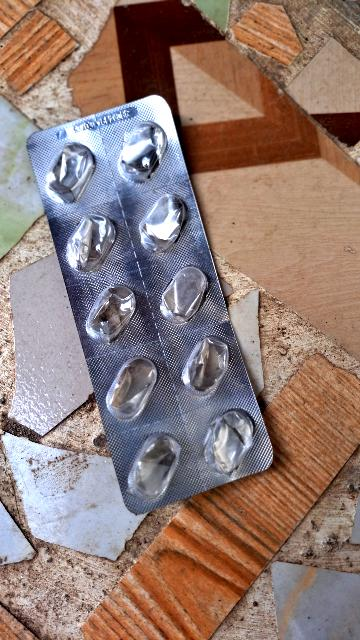medicine: (26, 94, 274, 516)
